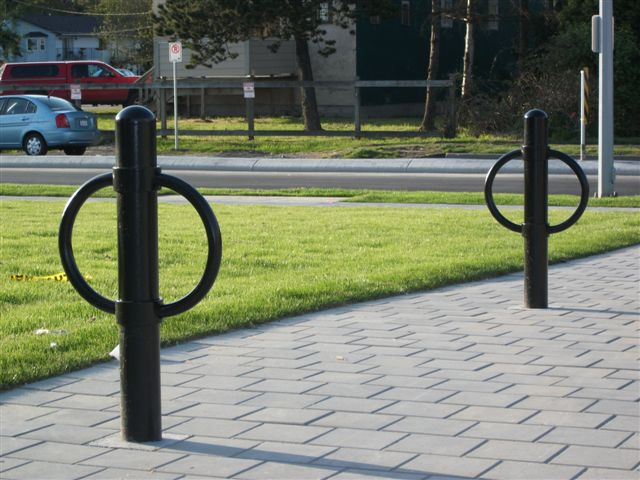Car: (8, 58, 144, 107), (3, 93, 98, 156)
Tree: (190, 6, 341, 139)
